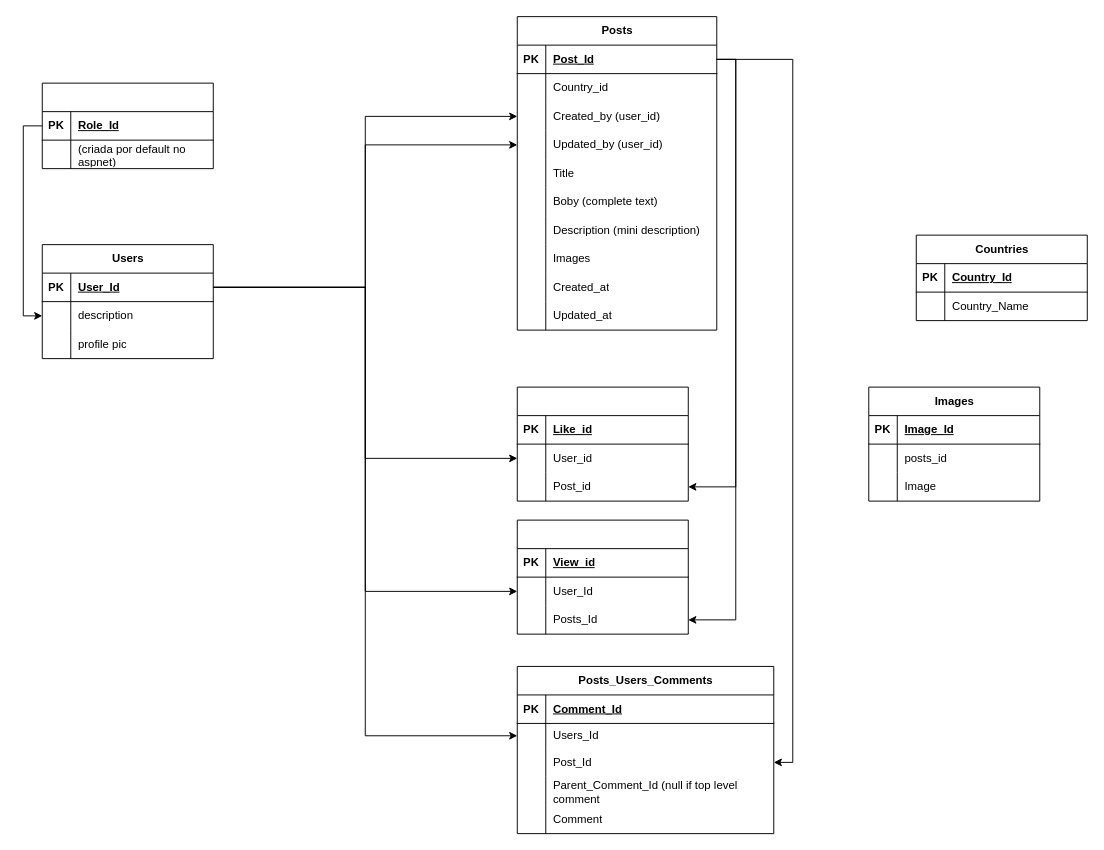
The diagram is 1104 pixels wide and 850 high, and some of its shapes have lost their labels. The box of each missing label's shape, as (x1, y1, x2, y2) in pixels:
Posts_Users_Likes: (516, 386, 688, 501)
Posts_Users_Views: (516, 519, 688, 634)
User Roles: (41, 82, 213, 169)
